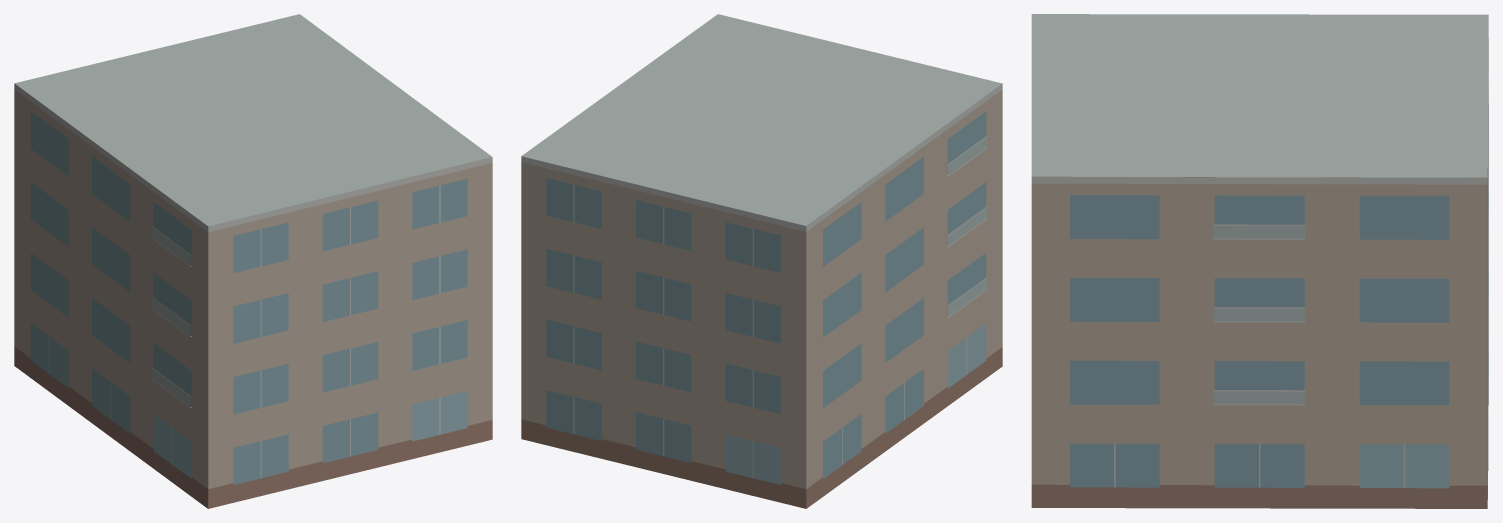
File: survey-upis-32838245.glb
The picture shows the model from 3 angles, left to right: view 1: azimuth 30°, elevation 25°; view 2: azimuth 150°, elevation 25°; view 3: azimuth 270°, elevation 25°; orthographic projection. The views are drawn at different scales.
Parts seen in each view (by area): view 1: survey-upis-32838245.tmp; view 2: survey-upis-32838245.tmp; view 3: survey-upis-32838245.tmp.
Part boxes in pixels (left/top/right/bottom): survey-upis-32838245.tmp: left=14, top=14, right=492, bottom=508; survey-upis-32838245.tmp: left=521, top=14, right=1002, bottom=508; survey-upis-32838245.tmp: left=1031, top=14, right=1488, bottom=508.
Size of the model in its own units: 12.45 by 11.7 by 14.65.
